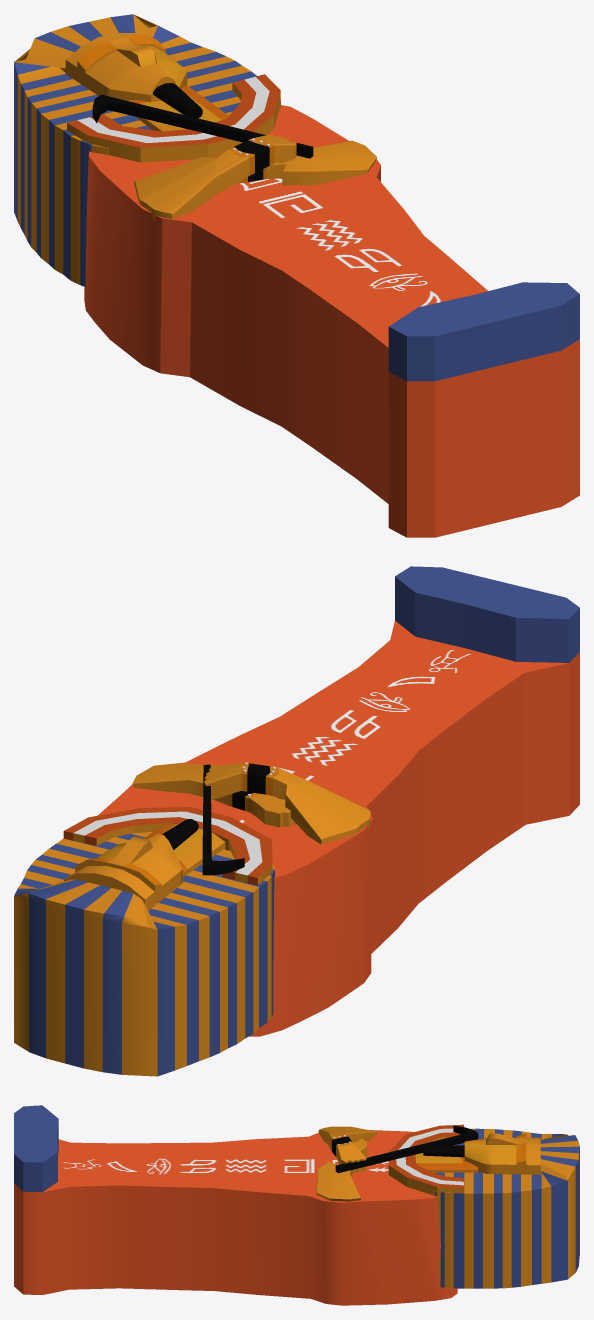
The model's file is Coffin.fbx.
The picture shows the model from 3 angles, top to bottom: view 1: azimuth 30°, elevation 25°; view 2: azimuth 150°, elevation 25°; view 3: azimuth 270°, elevation 25°; orthographic projection. The views are drawn at different scales.
Visible parts, largest first — view 1: pCube1, pCube11, pCube12, pCube13, pCube14; view 2: pCube1, pCube11, pCube12, pCube13, pCube14; view 3: pCube1, pCube11, pCube12, pCube13, pCube14.
Boxes of the visible parts, left/top/right/bottom form: pCube1: left=84, top=105, right=579, bottom=537; pCube11: left=14, top=14, right=280, bottom=286; pCube12: left=134, top=134, right=296, bottom=220; pCube13: left=234, top=140, right=377, bottom=185; pCube14: left=92, top=94, right=313, bottom=158; pCube1: left=98, top=566, right=579, bottom=1036; pCube11: left=14, top=807, right=274, bottom=1076; pCube12: left=204, top=762, right=370, bottom=844; pCube13: left=132, top=763, right=296, bottom=827; pCube14: left=202, top=764, right=244, bottom=875; pCube1: left=14, top=1105, right=457, bottom=1305; pCube11: left=388, top=1124, right=579, bottom=1288; pCube12: left=318, top=1126, right=376, bottom=1173; pCube13: left=316, top=1139, right=367, bottom=1201; pCube14: left=335, top=1125, right=478, bottom=1173.
Size of the model in its own units: 2.62 by 2.21 by 8.53.
9 materials, 1 textured.
